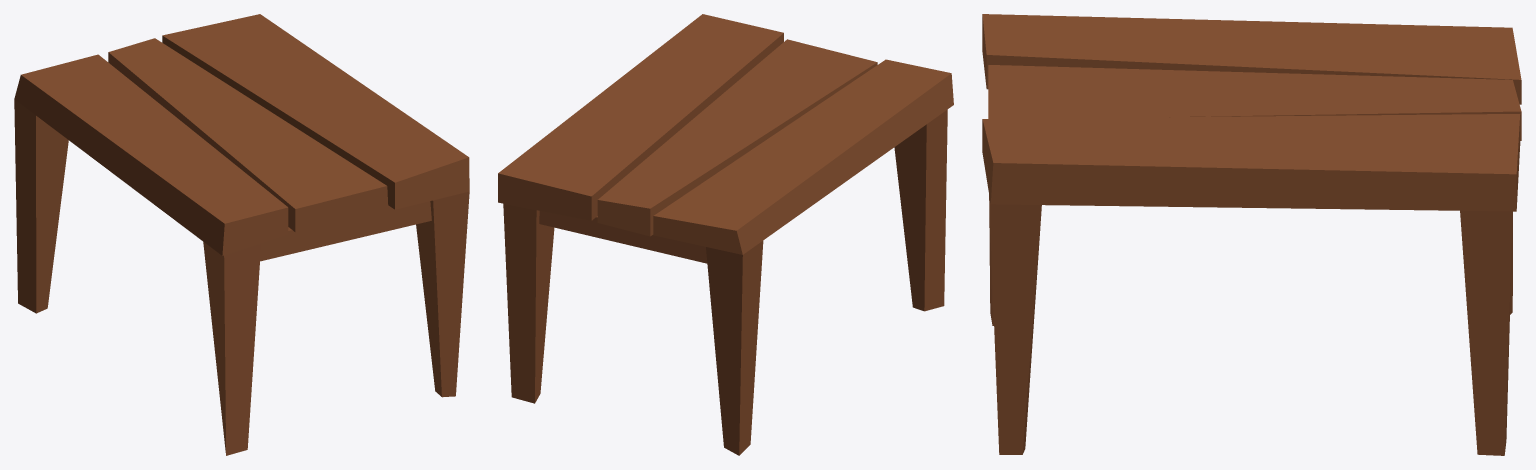
File: chairwoodstool01.gltf
3 renders of one model, left to right at view 1: azimuth 30°, elevation 25°; view 2: azimuth 150°, elevation 25°; view 3: azimuth 270°, elevation 25°, orthographic. The views are drawn at different scales.
Parts seen in each view (by area): view 1: Cube; view 2: Cube; view 3: Cube.
Part boxes in pixels (bbox=[...]): Cube: bbox=[14, 14, 469, 455]; Cube: bbox=[498, 14, 953, 455]; Cube: bbox=[982, 14, 1521, 455].
Size of the model in its own units: 0.3375 by 0.3059 by 0.5.
1 material, 1 textured.
